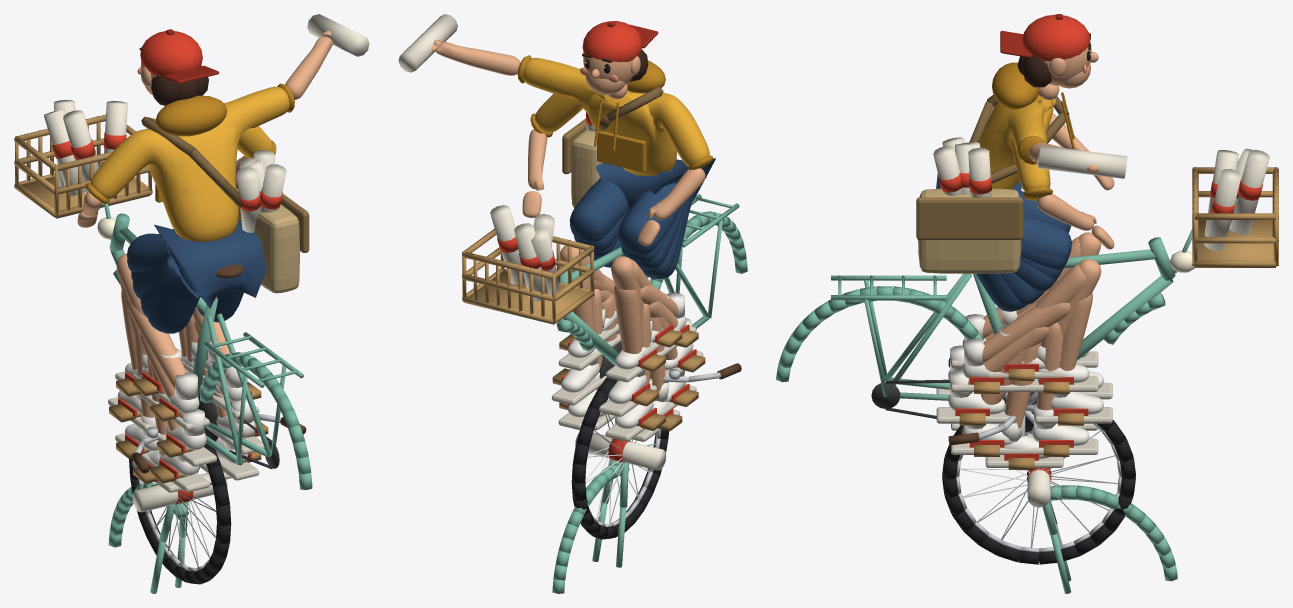
Rendered from rider.glb.
The picture shows the model from 3 angles, left to right: view 1: azimuth 30°, elevation 25°; view 2: azimuth 150°, elevation 25°; view 3: azimuth 270°, elevation 25°; orthographic projection. The views are drawn at different scales.
Visible parts, largest first — view 1: rider, armsThrow, armsIdle, pedal2, pedal0, pedal3, pedal1, wheelF, pedal7, pedal5, pedal4, fork (+2 smaller); view 2: rider, armsThrow, armsIdle, pedal0, pedal1, pedal2, wheelF, pedal3, pedal5, fork, pedal4, pedal7 (+2 smaller); view 3: rider, armsThrow, wheelF, armsIdle, pedal3, pedal0, pedal2, pedal1, pedal4, pedal7, fork, pedal6 (+2 smaller).
Part boxes in pixels (left/top/right/bottom): rider: left=52, top=29, right=312, bottom=489; armsThrow: left=44, top=14, right=369, bottom=237; armsIdle: left=47, top=100, right=286, bottom=241; pedal2: left=14, top=115, right=263, bottom=492; pedal0: left=14, top=117, right=263, bottom=466; pedal3: left=14, top=114, right=265, bottom=464; pedal1: left=14, top=120, right=264, bottom=492; wheelF: left=129, top=429, right=231, bottom=584; pedal7: left=128, top=229, right=247, bottom=430; pedal5: left=115, top=233, right=261, bottom=480; pedal4: left=108, top=231, right=268, bottom=454; fork: left=108, top=414, right=306, bottom=593; rider: left=497, top=21, right=747, bottom=378; armsThrow: left=398, top=14, right=712, bottom=301; armsIdle: left=490, top=90, right=712, bottom=300; pedal0: left=462, top=180, right=705, bottom=405; pedal1: left=462, top=168, right=698, bottom=414; pedal2: left=462, top=158, right=715, bottom=441; wheelF: left=571, top=377, right=668, bottom=539; pedal3: left=462, top=158, right=715, bottom=441; pedal5: left=604, top=159, right=715, bottom=382; fork: left=552, top=363, right=741, bottom=593; pedal4: left=599, top=159, right=715, bottom=416; pedal7: left=558, top=165, right=705, bottom=429; rider: left=776, top=14, right=1262, bottom=431; armsThrow: left=933, top=95, right=1269, bottom=251; wheelF: left=942, top=420, right=1135, bottom=564; armsIdle: left=933, top=99, right=1267, bottom=249; pedal3: left=951, top=167, right=1278, bottom=430; pedal0: left=936, top=168, right=1278, bottom=425; pedal2: left=937, top=167, right=1278, bottom=437; pedal1: left=938, top=168, right=1278, bottom=430; pedal4: left=936, top=272, right=1112, bottom=425; pedal7: left=951, top=279, right=1098, bottom=456; fork: left=948, top=358, right=1177, bottom=593; pedal6: left=976, top=182, right=1080, bottom=469.
Bounding box in the file's own units: 1.16 × 2.19 × 1.74.
